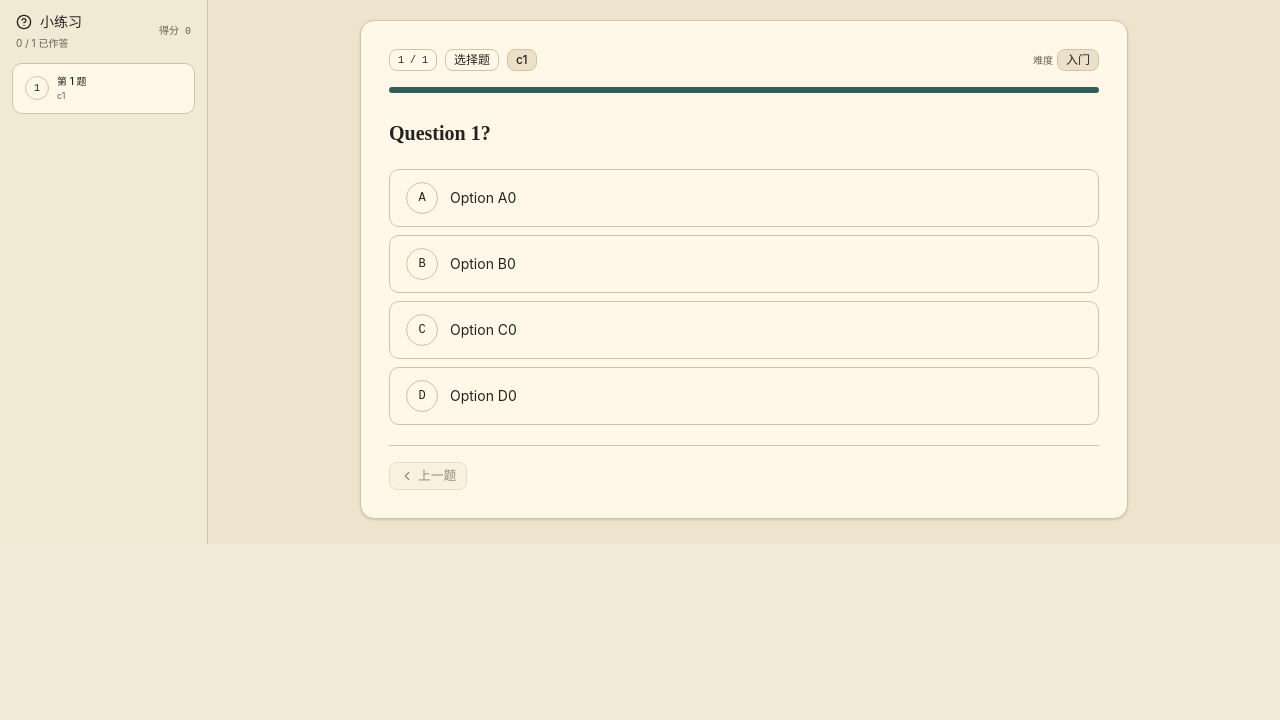
Test case: QuizPanel › disables options after answering
What coordinates should you click on to do the following:
click the button "A Option A0"
I would click on:
 (422, 198)
Its box is x1=389 y1=169 x2=1099 y2=227.
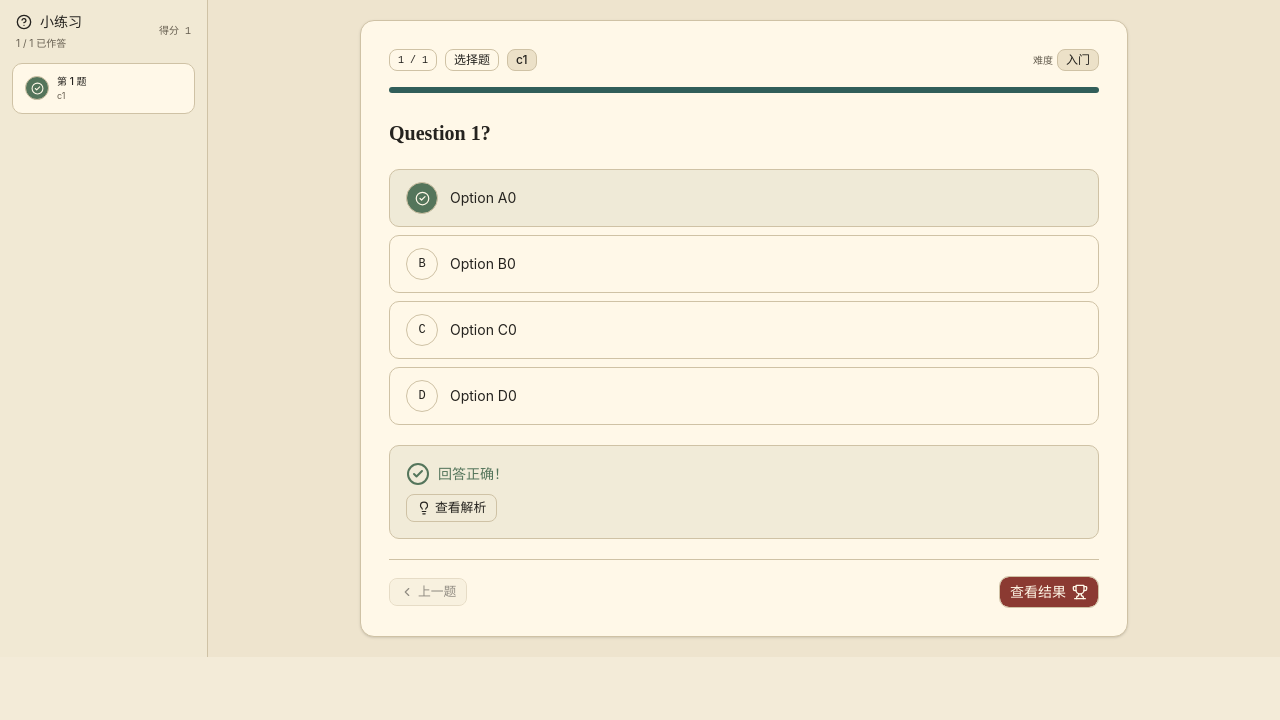
Expected: the button "B Option B0" is disabled, x1=389 y1=235 x2=1099 y2=293
Now the button "Option A0" is disabled, box x1=389 y1=169 x2=1099 y2=227
